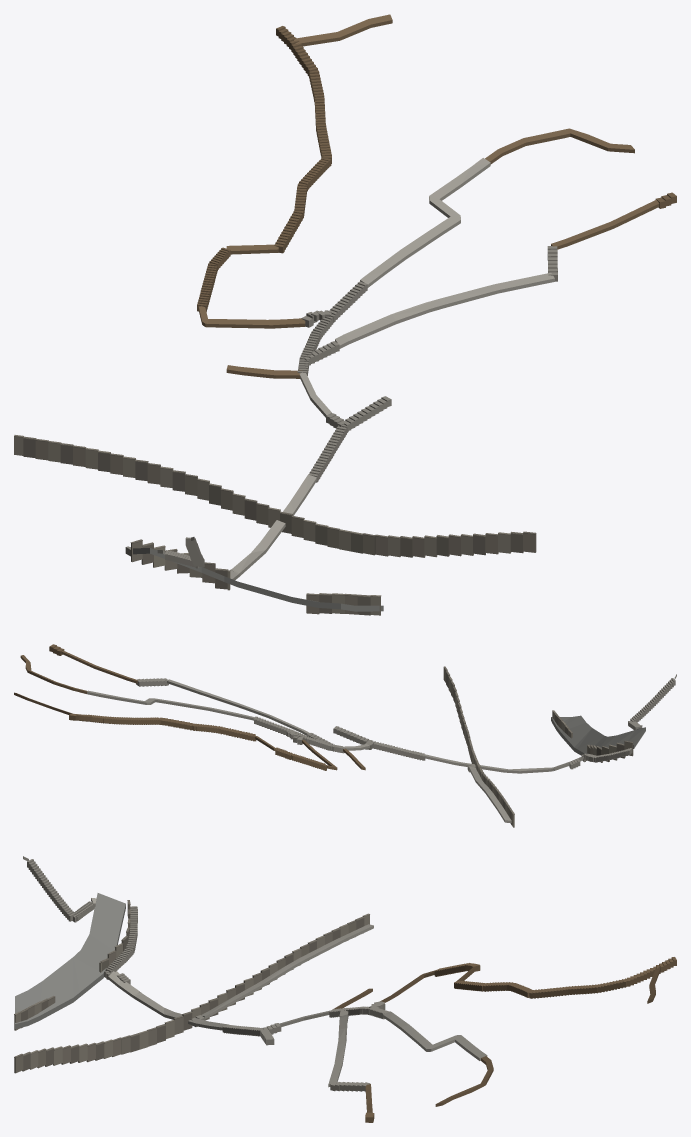
3 views of the same model, one above another, from view 1: azimuth 30°, elevation 25°; view 2: azimuth 150°, elevation 25°; view 3: azimuth 270°, elevation 25° (orthographic). The views are drawn at different scales.
Size of the model in its own units: 147 by 47.21 by 146.
